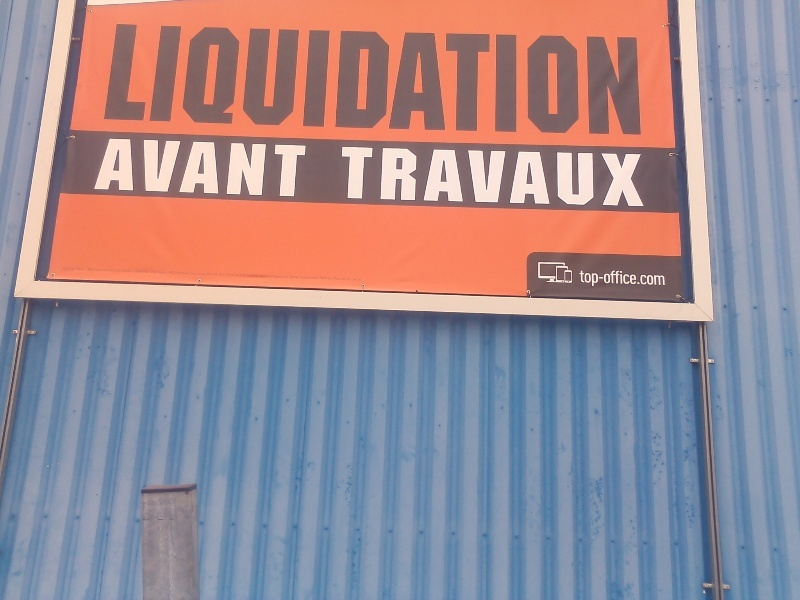text: (129, 22, 144, 137), (145, 22, 160, 137), (161, 22, 176, 137), (177, 22, 192, 137), (193, 22, 208, 137), (209, 22, 224, 137), (225, 22, 240, 137), (241, 22, 256, 137), (257, 22, 272, 137), (273, 22, 288, 137), (289, 22, 304, 137), (305, 22, 320, 137), (321, 22, 336, 137), (337, 22, 352, 137), (353, 22, 368, 137), (369, 22, 384, 137), (385, 22, 400, 137), (401, 22, 416, 137), (417, 22, 432, 137), (433, 22, 448, 137), (449, 22, 464, 137), (465, 22, 480, 137), (481, 22, 496, 137), (497, 22, 512, 137), (513, 22, 528, 137), (529, 22, 544, 137), (545, 22, 560, 137), (561, 22, 576, 137), (577, 22, 592, 137), (593, 22, 608, 137), (609, 22, 624, 137), (625, 22, 640, 137), (115, 22, 128, 137), (353, 145, 368, 208), (369, 145, 384, 208), (385, 145, 400, 208), (401, 145, 416, 208), (417, 145, 432, 208), (433, 145, 448, 208), (449, 145, 464, 208), (465, 145, 480, 208), (481, 145, 496, 208), (497, 145, 512, 208), (513, 145, 528, 208), (529, 145, 544, 208), (545, 145, 560, 208), (561, 145, 576, 208), (577, 145, 592, 208), (593, 145, 608, 208), (609, 145, 624, 208), (625, 145, 640, 208), (113, 136, 128, 198), (129, 136, 144, 198), (145, 136, 160, 198), (161, 136, 176, 198), (177, 136, 192, 198), (193, 136, 208, 198), (209, 136, 224, 198), (225, 136, 240, 198), (241, 136, 256, 198), (257, 136, 272, 198), (273, 136, 288, 198), (289, 136, 304, 198), (341, 145, 352, 208), (641, 145, 647, 208), (593, 267, 608, 287), (609, 267, 624, 287), (625, 267, 640, 287), (641, 267, 656, 287), (305, 136, 309, 198), (580, 267, 592, 287), (641, 22, 643, 137), (65, 268, 80, 283), (81, 268, 96, 283), (97, 268, 112, 283), (113, 268, 128, 283), (129, 268, 144, 283), (145, 268, 160, 283), (161, 268, 176, 283), (177, 268, 192, 283), (193, 268, 208, 283), (209, 268, 224, 283), (225, 268, 240, 283), (241, 268, 256, 283), (257, 268, 272, 283), (273, 268, 288, 283), (289, 268, 304, 283), (305, 268, 320, 283), (321, 268, 336, 283), (337, 268, 352, 283), (109, 136, 112, 198), (657, 267, 666, 287), (353, 268, 359, 283), (61, 268, 64, 283)
